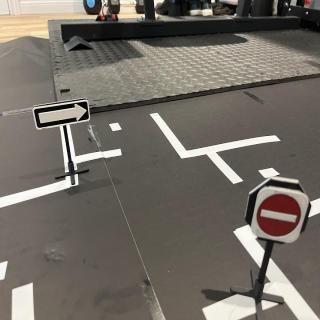sign_noentry: (250, 185, 311, 247)
sign_oneway_right: (32, 98, 92, 133)
